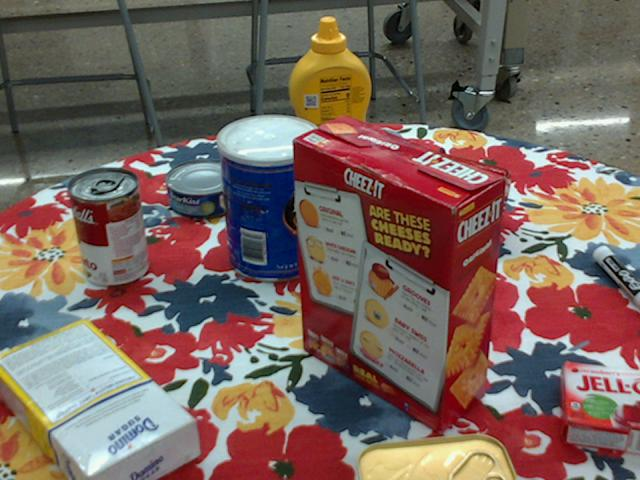cracker_box: (291, 117, 504, 436)
gelatin_box: (559, 361, 639, 451)
large_marker: (592, 243, 639, 305)
master_chef_can: (216, 114, 322, 282)
mug: (416, 147, 508, 240)
mustard_bottle: (288, 18, 371, 183)
potted_meat_can: (355, 434, 516, 479)
sugar_box: (0, 322, 199, 479)
tomato_soup_can: (68, 167, 148, 287)
tuna_fish_can: (166, 158, 241, 217)
